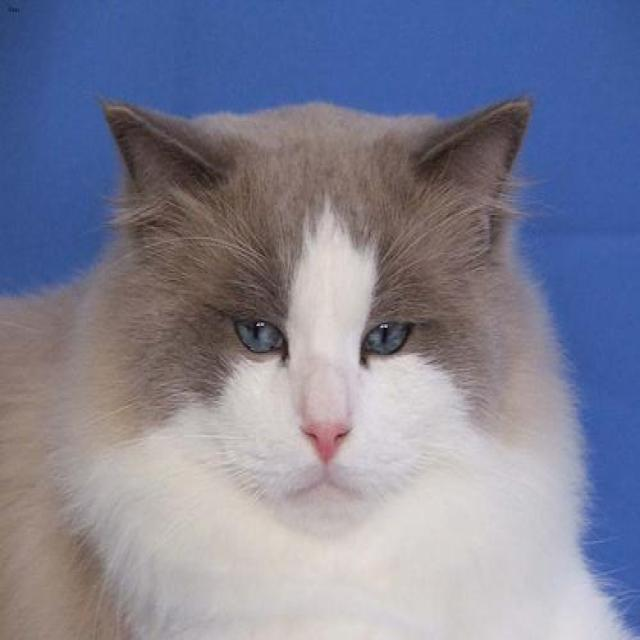cat: (0, 97, 623, 639)
